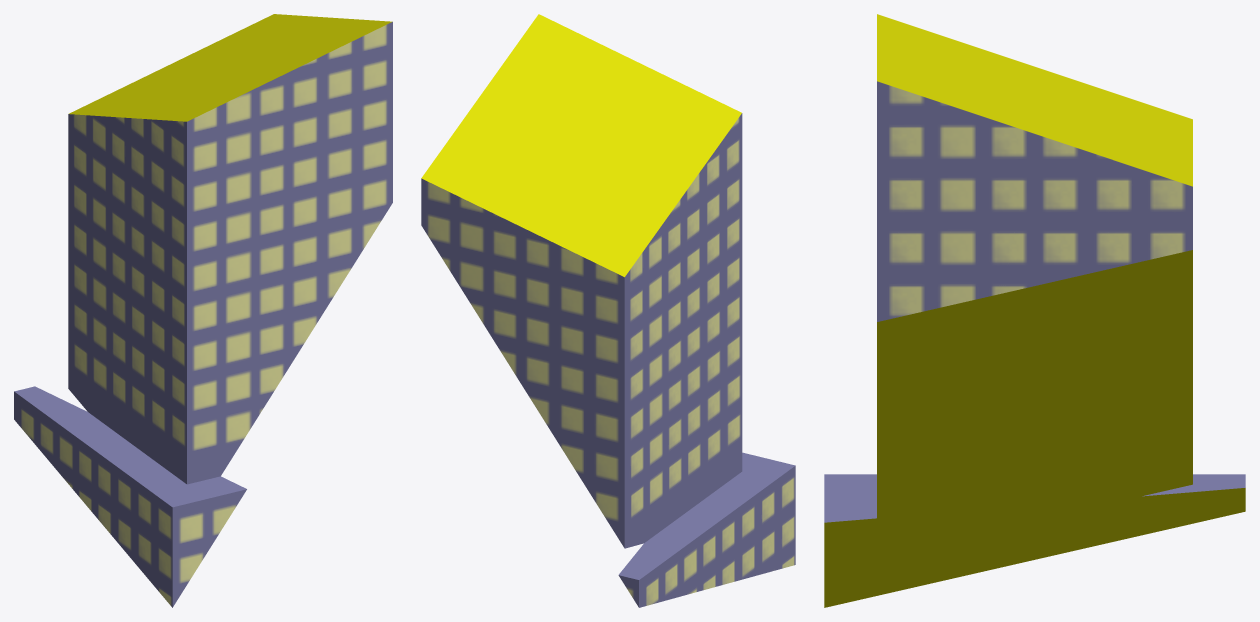
File: CB1Shard4.fbx
The picture shows the model from 3 angles, left to right: view 1: azimuth 30°, elevation 25°; view 2: azimuth 150°, elevation 25°; view 3: azimuth 270°, elevation 25°; orthographic projection. The views are drawn at different scales.
Parts seen in each view (by area): view 1: shard10; view 2: shard10; view 3: shard10.
Boxes of the visible parts, x1,y1,x2,y2 form: shard10: (14, 14, 392, 607); shard10: (421, 14, 795, 607); shard10: (824, 14, 1245, 607).
Bounding box in the file's own units: 0.0834 × 0.1703 × 0.0953.
2 materials, 1 textured.
